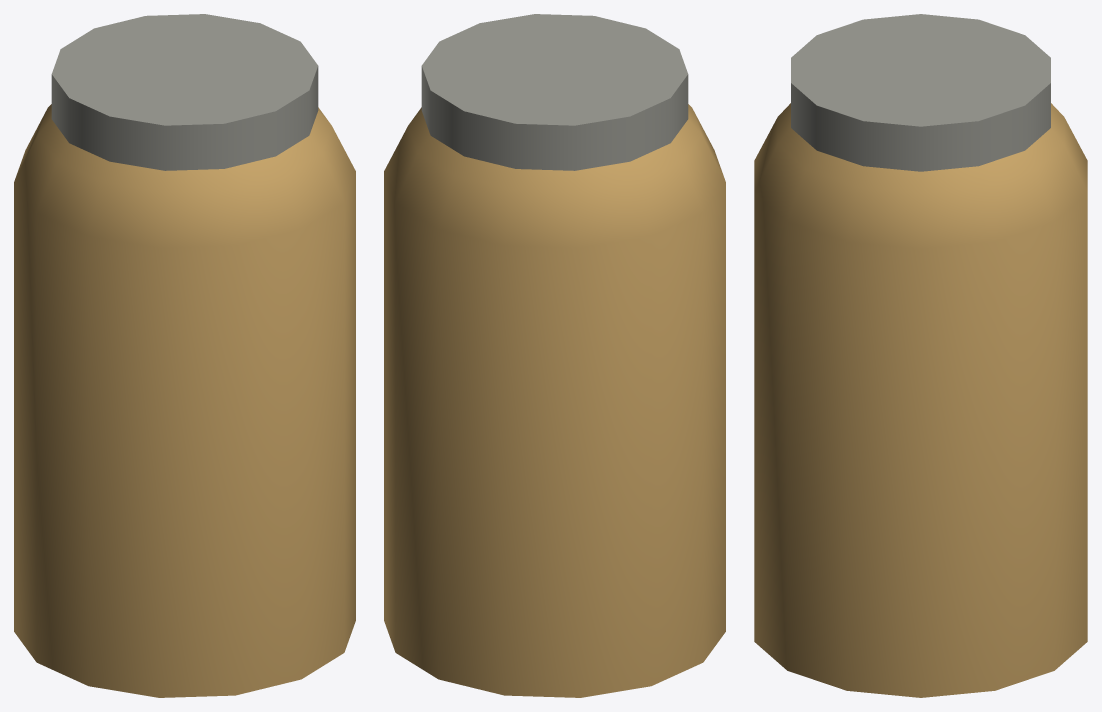
Rendered from tpl_dispensa_vaso_l_farro.glb.
The picture shows the model from 3 angles, left to right: view 1: azimuth 30°, elevation 25°; view 2: azimuth 150°, elevation 25°; view 3: azimuth 270°, elevation 25°; orthographic projection.
Parts seen in each view (by area): view 1: tpl_dispensa_vaso_l_farro; view 2: tpl_dispensa_vaso_l_farro; view 3: tpl_dispensa_vaso_l_farro.
Boxes of the visible parts, left/top/right/bottom form: tpl_dispensa_vaso_l_farro: left=14, top=14, right=355, bottom=697; tpl_dispensa_vaso_l_farro: left=384, top=14, right=725, bottom=697; tpl_dispensa_vaso_l_farro: left=754, top=14, right=1087, bottom=697.
Bounding box in the file's own units: 0.14 × 0.2509 × 0.1365.
